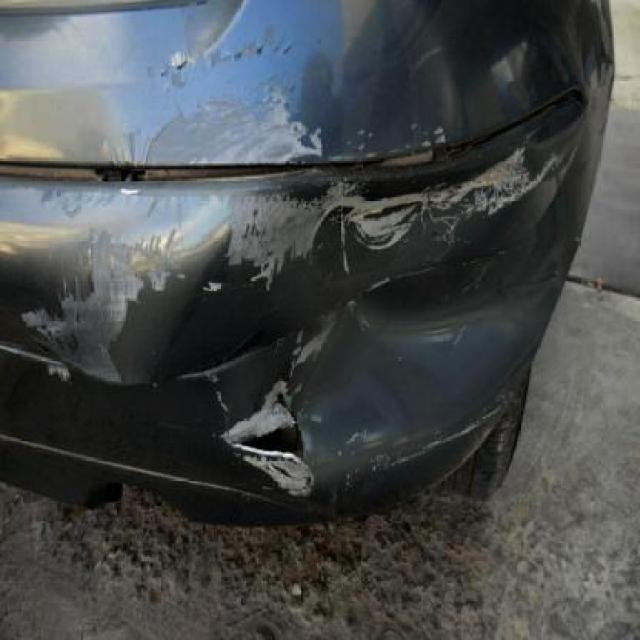car damage: (295, 192, 543, 482), (118, 195, 306, 339), (15, 301, 162, 409), (177, 323, 272, 379), (226, 448, 321, 500), (270, 386, 294, 422)
